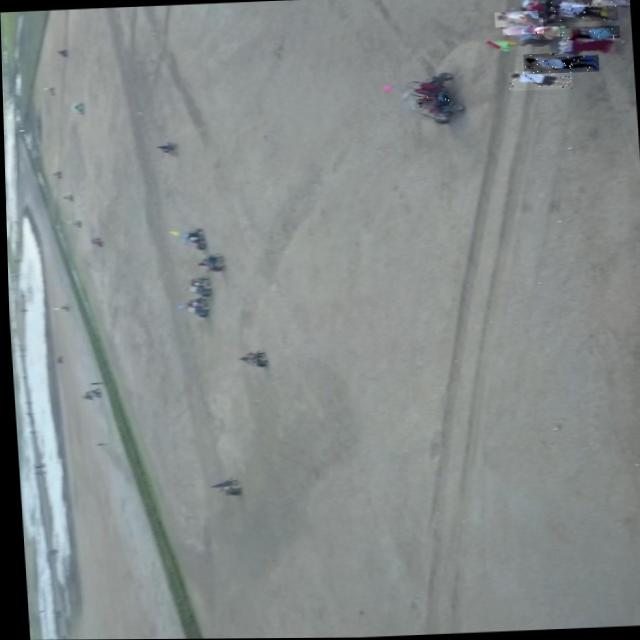Person: (522, 51, 599, 74), (545, 0, 618, 22), (507, 69, 573, 91), (555, 36, 621, 56), (559, 25, 620, 40), (501, 17, 545, 35), (494, 10, 539, 27), (570, 0, 629, 7), (418, 94, 448, 107), (550, 0, 592, 5)
